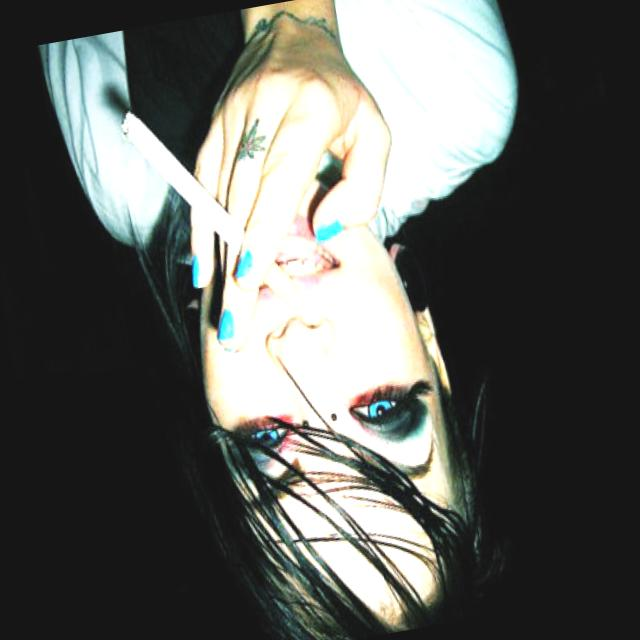cigarette: (118, 96, 242, 248)
